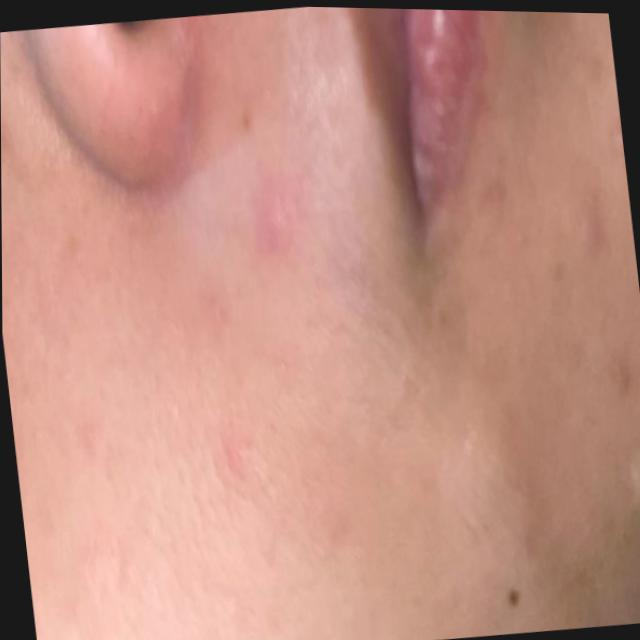papule: (228, 150, 317, 286), (556, 167, 619, 268)
pustule: (599, 94, 625, 178)
